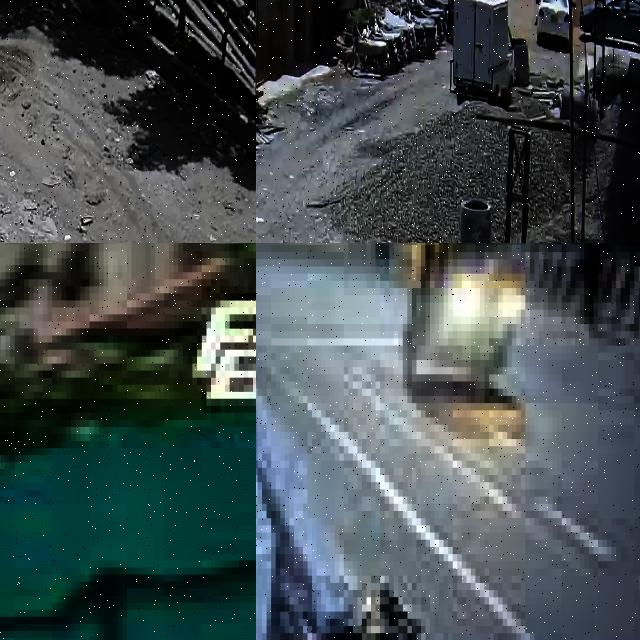bike: (316, 583, 539, 640), (346, 23, 390, 78)
car: (580, 0, 640, 54), (537, 0, 570, 45)
